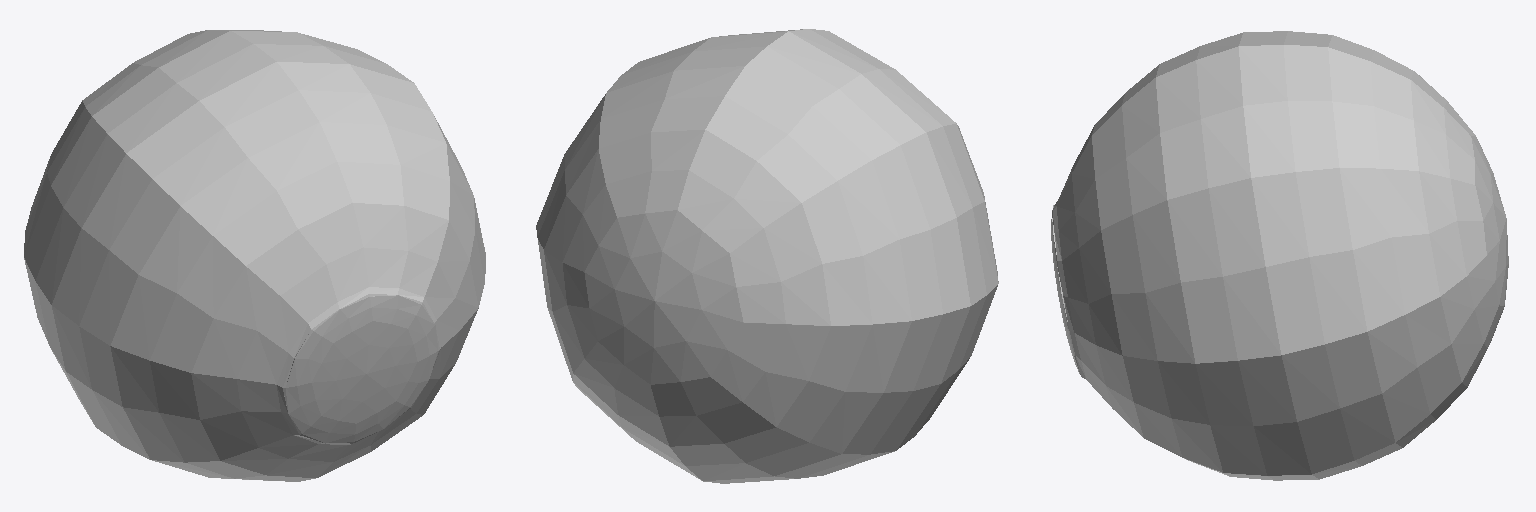
The model's file is Eye_Ball_Inner_Left.obj.
3 views of the same model, side by side, from view 1: azimuth 30°, elevation 25°; view 2: azimuth 150°, elevation 25°; view 3: azimuth 270°, elevation 25° (orthographic).
Parts seen in each view (by area): view 1: Eye_Balll_Inner1_Mesh group1; view 2: Eye_Balll_Inner1_Mesh group1; view 3: Eye_Balll_Inner1_Mesh group1.
Boxes of the visible parts, box(x1,y1,x2,y2) form: Eye_Balll_Inner1_Mesh group1: box(24, 30, 485, 481); Eye_Balll_Inner1_Mesh group1: box(536, 29, 998, 483); Eye_Balll_Inner1_Mesh group1: box(1051, 31, 1508, 480).
Bounding box in the file's own units: 0.3528 × 0.3492 × 0.3433.